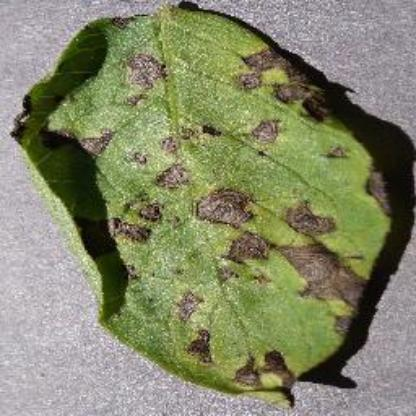Early-Blight: (8, 0, 416, 412)
